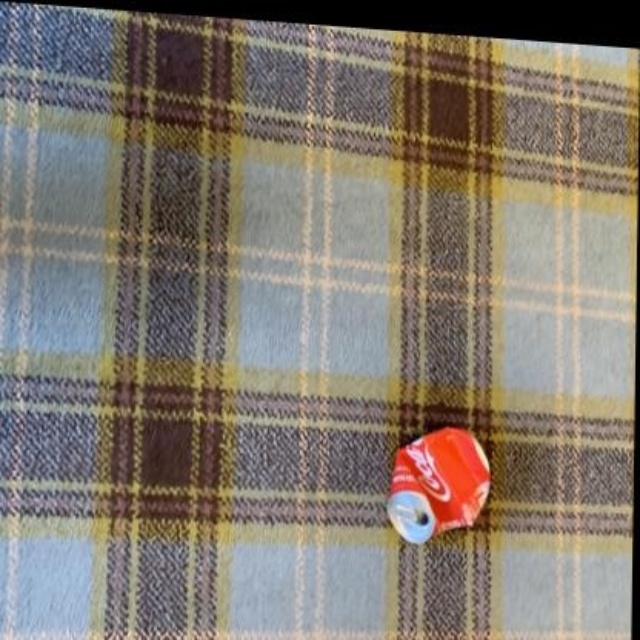trash: (388, 428, 489, 542)
